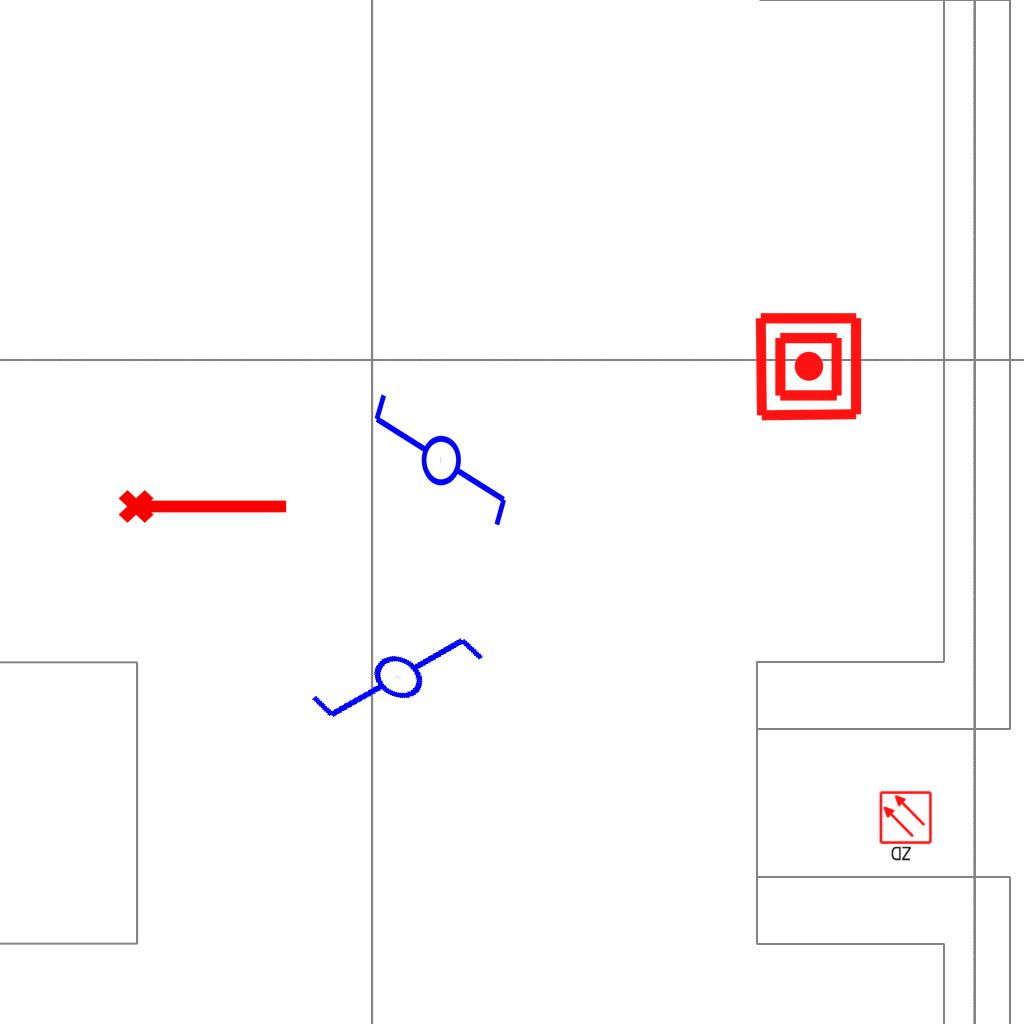ASR_Ansaugoeffnung: (116, 481, 292, 527)
NAM-Nichtautomatischer_Melder: (752, 310, 865, 423)
Wechselschalter: (301, 582, 508, 784), (367, 390, 511, 547)
ZD_Melder_in_Zwischendecke_mit_Revisionsoeffnung_mind_40_x_40_cm: (878, 790, 935, 864)
